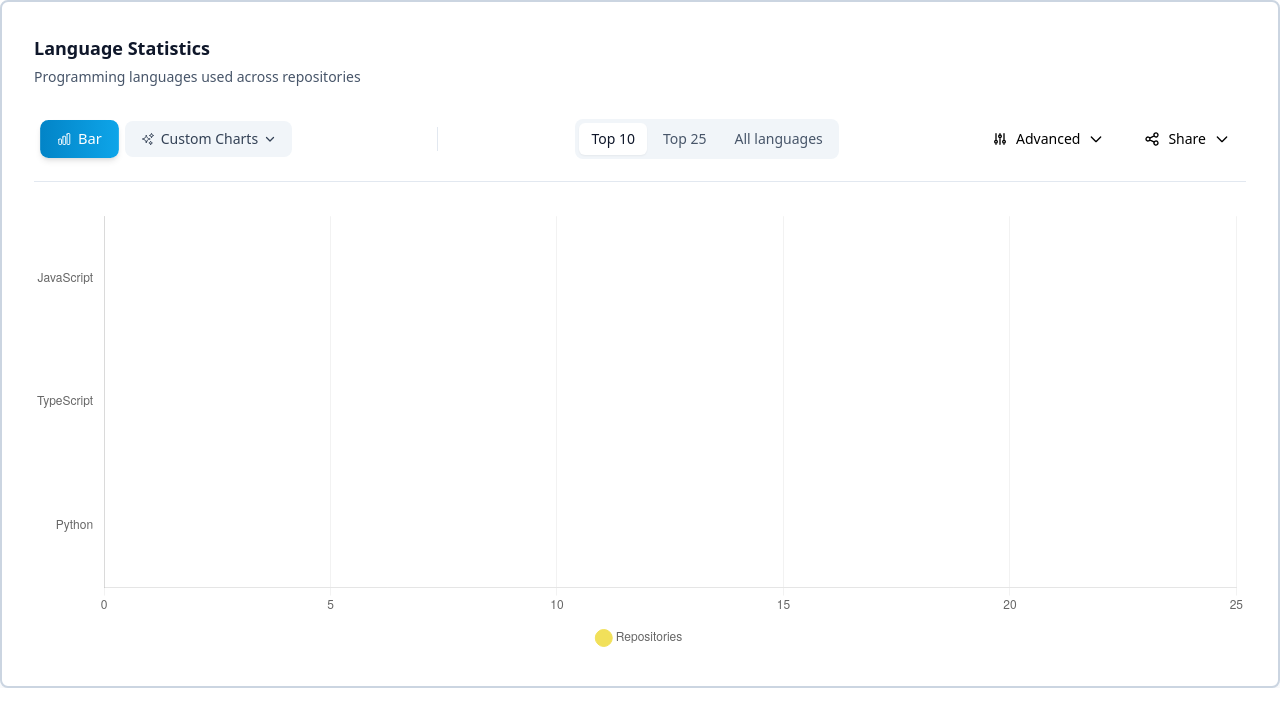
ChartPanel › Custom Charts dropdown › opens the dropdown when "Custom Charts" is clicked
Click the tab "Custom Charts": coordinates (208, 139) top-left (125, 121), bottom-right (292, 157)
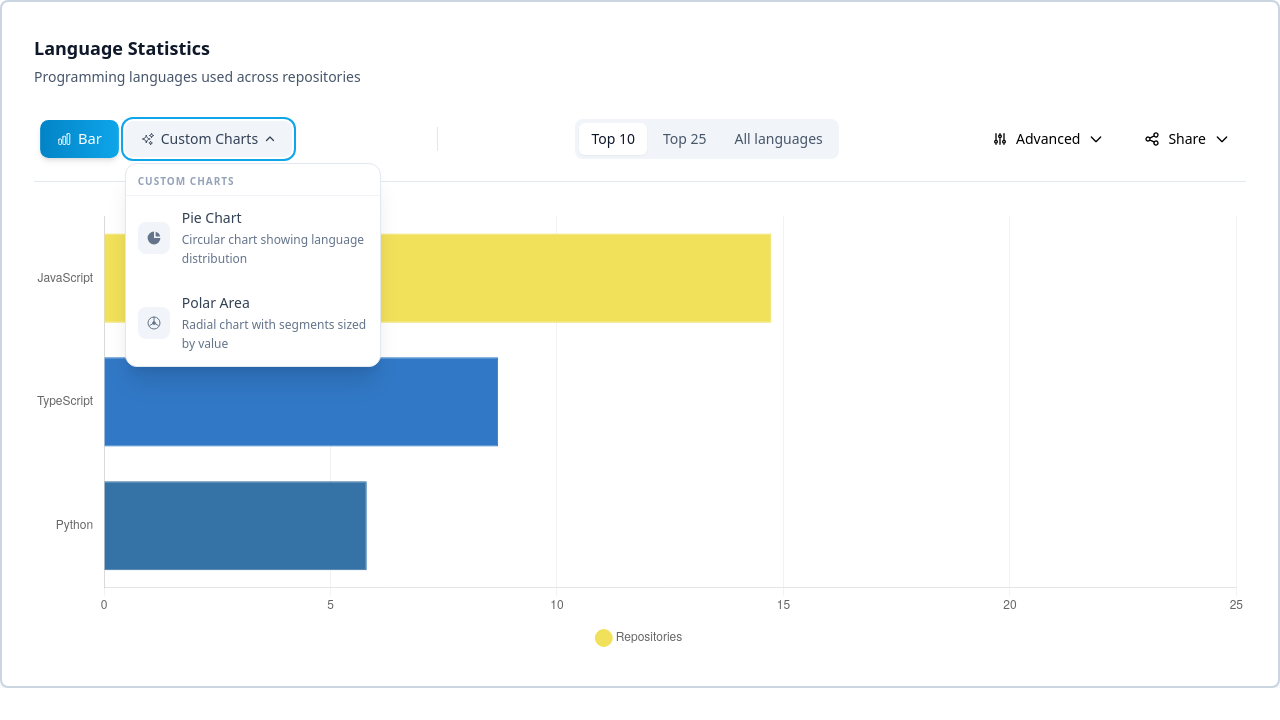
Result: the list named "custom chart types" is shown at top-left (125, 163), bottom-right (381, 367)
